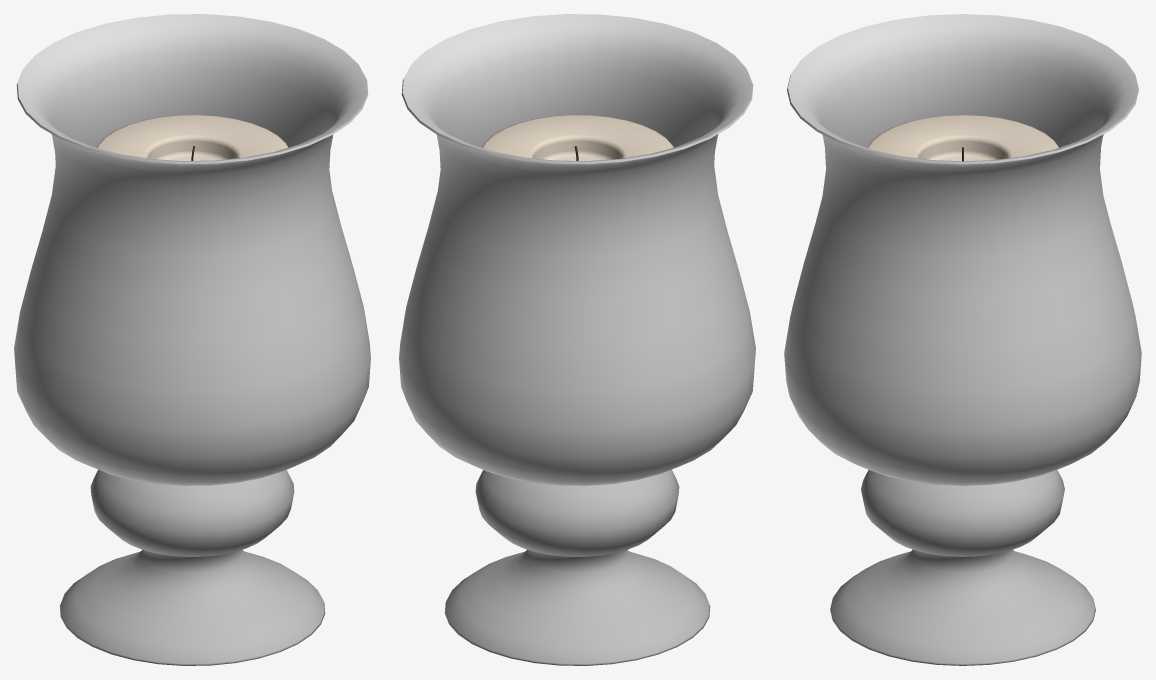
The model's file is GlassHurricaneCandleHolder.gltf.
The picture shows the model from 3 angles, left to right: view 1: azimuth 30°, elevation 25°; view 2: azimuth 150°, elevation 25°; view 3: azimuth 270°, elevation 25°; orthographic projection.
Parts seen in each view (by area): view 1: GlassHurricaneCandleHolder-glass, GlassHurricaneCandleHolder-opaque; view 2: GlassHurricaneCandleHolder-glass, GlassHurricaneCandleHolder-opaque; view 3: GlassHurricaneCandleHolder-glass, GlassHurricaneCandleHolder-opaque.
Part boxes in pixels (bbox=[...]): GlassHurricaneCandleHolder-glass: bbox=[14, 14, 370, 485]; GlassHurricaneCandleHolder-opaque: bbox=[59, 115, 325, 665]; GlassHurricaneCandleHolder-glass: bbox=[399, 14, 755, 485]; GlassHurricaneCandleHolder-opaque: bbox=[444, 115, 710, 665]; GlassHurricaneCandleHolder-glass: bbox=[784, 14, 1141, 485]; GlassHurricaneCandleHolder-opaque: bbox=[830, 115, 1095, 665].
Size of the model in its own units: 0.1903 by 0.3066 by 0.1903.
Materials: 2 (1 with a texture image).
